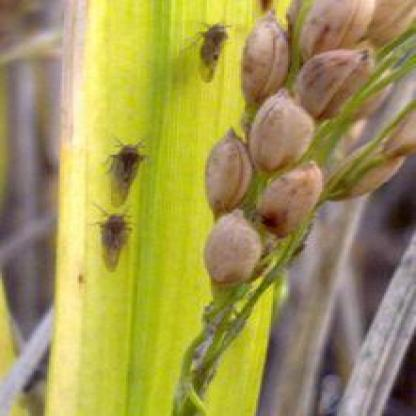brown-planthopper: (104, 142, 147, 206), (98, 212, 134, 270), (192, 22, 228, 80)
